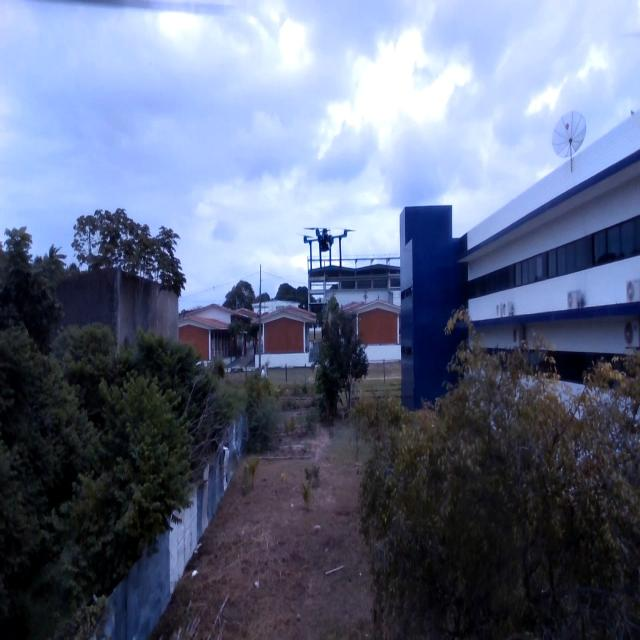-uav-: (289, 218, 359, 280)
